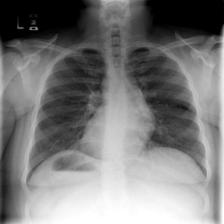normal: (26, 40, 212, 192)
